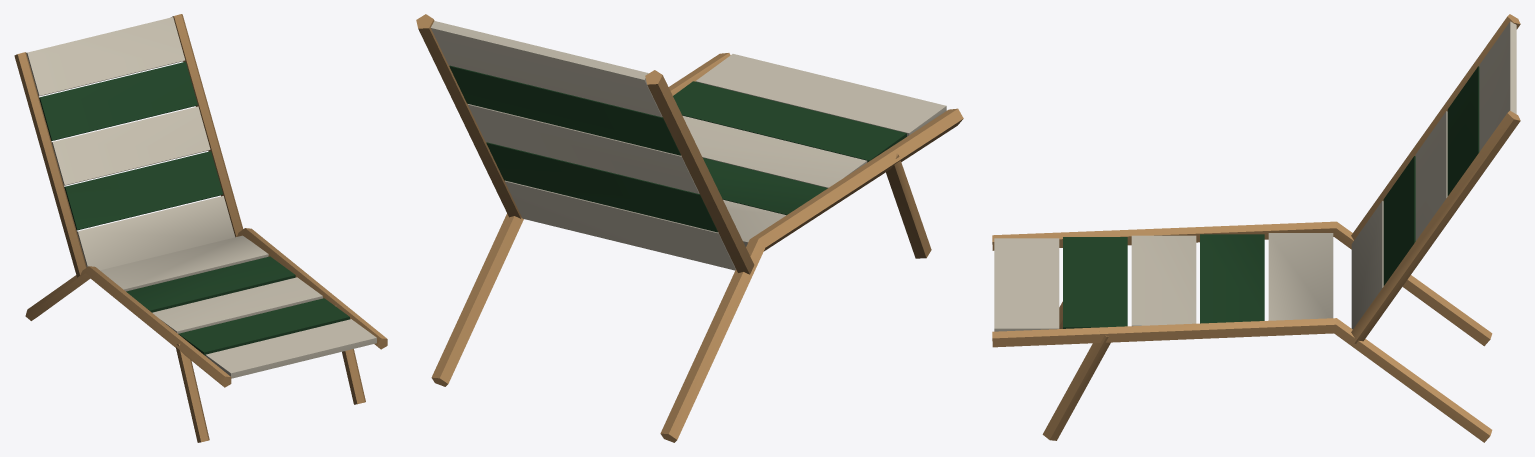
File: deck_chair.glb
3 views of the same model, side by side, from view 1: azimuth 30°, elevation 25°; view 2: azimuth 150°, elevation 25°; view 3: azimuth 270°, elevation 25° (orthographic). The views are drawn at different scales.
Parts seen in each view (by area): view 1: deck_chair_mesh; view 2: deck_chair_mesh; view 3: deck_chair_mesh.
Part boxes in pixels (x1,y1,x2,y2): deck_chair_mesh: (14, 14, 387, 442); deck_chair_mesh: (416, 14, 963, 442); deck_chair_mesh: (992, 14, 1520, 442).
Size of the model in its own units: 0.644 by 0.9577 by 1.39.
